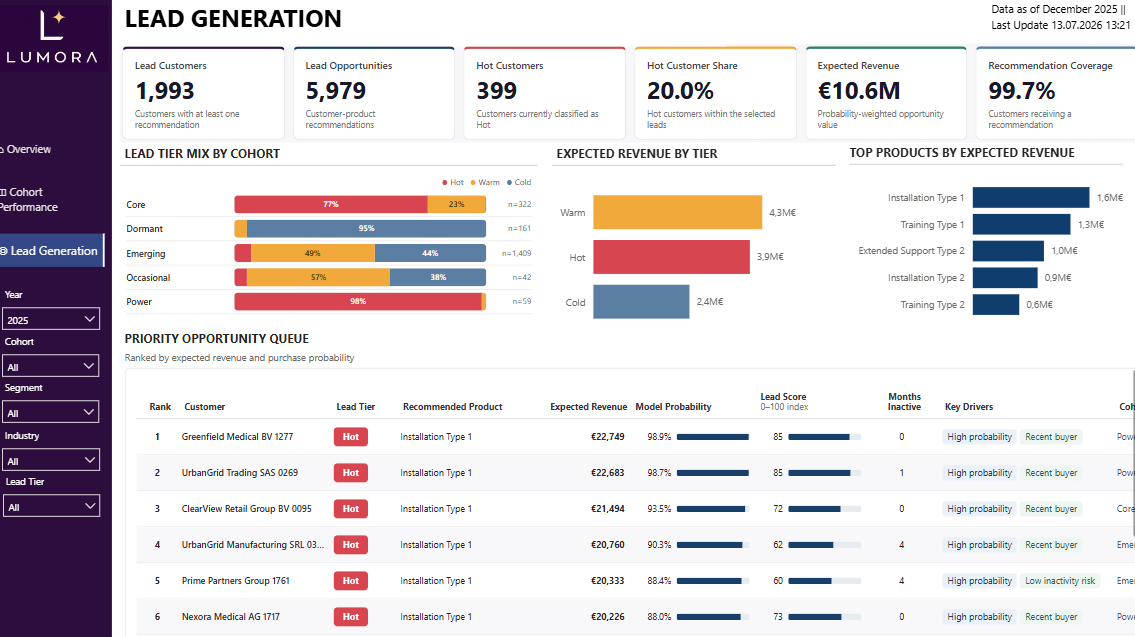

This screenshot's page, from the dashboard's own definition file:
{"tool":"powerbi","page":{"name":"◎ Lead Generation","canvas":[1280,720],"ordinal":2},"visuals":[{"type":"htmlContent443BE3AD55E043BF878BED274D3A6855","fields":{"content":["_measures.Lead Generation KPI html"]},"box":[135,47.5,1145,126.2],"z":0},{"type":"shape","box":[0,0,132.2,720],"z":1000},{"type":"image","box":[3,0,125,94],"z":2000},{"type":"slicer","fields":{"Values":["dimCalendar.year"]},"box":[0,318.9,128.6,65.9],"z":3000},{"type":"htmlContent443BE3AD55E043BF878BED274D3A6855","fields":{"content":["_measures.Update Card Label"]},"box":[1104,0,176,47],"z":4000},{"type":"textbox","box":[141.6,0,672.8,56.5],"z":5000},{"type":"clusteredBarChart","title":"EXPECTED REVENUE BY TIER","fields":{"Y":["_measures.Expected Revenue"],"Category":["leadsLong.Customer_Lead_Tier"]},"box":[621.1,165.6,315.6,218.9],"z":6000},{"type":"htmlContent443BE3AD55E043BF878BED274D3A6855","title":"LEAD TIER MIX BY COHORT","fields":{"content":["_measures.Lead Tier Distribution html"]},"box":[141.1,165.6,464.4,220],"z":7000},{"type":"clusteredBarChart","title":"TOP PRODUCTS BY EXPECTED REVENUE","fields":{"Category":["leadsLong.Product"],"Y":["_measures.Expected Revenue"]},"box":[946.7,164.4,314.4,206.7],"z":8000},{"type":"htmlContent443BE3AD55E043BF878BED274D3A6855","title":"PRIORITY OPPORTUNITY QUEUE","fields":{"content":["_measures.Priority Opportunity Queue HTML"]},"box":[141.1,371.1,1138.9,348.9],"z":9000},{"type":"slicer","fields":{"Values":["dimCustomer.cluster_cohort_ML"]},"box":[0,371.2,127.5,66.2],"z":10000},{"type":"slicer","fields":{"Values":["dimCustomer.Customer_Segment"]},"box":[0,422.5,127.5,66.2],"z":11000},{"type":"slicer","fields":{"Values":["dimCustomer.Industry"]},"box":[0,475,129,66],"z":12000},{"type":"slicer","fields":{"Values":["leadsLong.Customer_Lead_Tier"]},"box":[1,527,128,66],"z":13000},{"type":"pageNavigator","box":[0,149.9,124.4,153.1],"z":14000}]}

Visuals, with their boxes on the page's 1280x720 design canvas (x1, y1, x2, y2). These are canvas units, not pixel positions in the 1135x637 screenshot, which may show the page scaled, cropped or inside an application window:
htmlContent443BE3AD55E043BF878BED274D3A6855 - _measures.Lead Generation KPI html: x1=135 y1=48 x2=1280 y2=174
shape: x1=0 y1=0 x2=132 y2=720
image: x1=3 y1=0 x2=128 y2=94
slicer - dimCalendar.year: x1=0 y1=319 x2=129 y2=385
htmlContent443BE3AD55E043BF878BED274D3A6855 - _measures.Update Card Label: x1=1104 y1=0 x2=1280 y2=47
textbox: x1=142 y1=0 x2=814 y2=56
"EXPECTED REVENUE BY TIER" clusteredBarChart: x1=621 y1=166 x2=937 y2=384
"LEAD TIER MIX BY COHORT" htmlContent443BE3AD55E043BF878BED274D3A6855: x1=141 y1=166 x2=606 y2=386
"TOP PRODUCTS BY EXPECTED REVENUE" clusteredBarChart: x1=947 y1=164 x2=1261 y2=371
"PRIORITY OPPORTUNITY QUEUE" htmlContent443BE3AD55E043BF878BED274D3A6855: x1=141 y1=371 x2=1280 y2=720
slicer - dimCustomer.cluster_cohort_ML: x1=0 y1=371 x2=128 y2=437
slicer - dimCustomer.Customer_Segment: x1=0 y1=422 x2=128 y2=489
slicer - dimCustomer.Industry: x1=0 y1=475 x2=129 y2=541
slicer - leadsLong.Customer_Lead_Tier: x1=1 y1=527 x2=129 y2=593
pageNavigator: x1=0 y1=150 x2=124 y2=303
